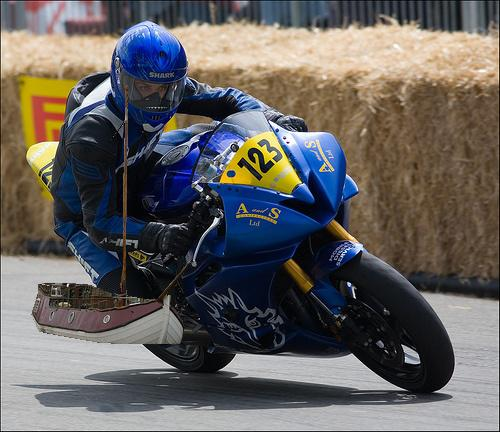tampered: (32, 86, 192, 344)
